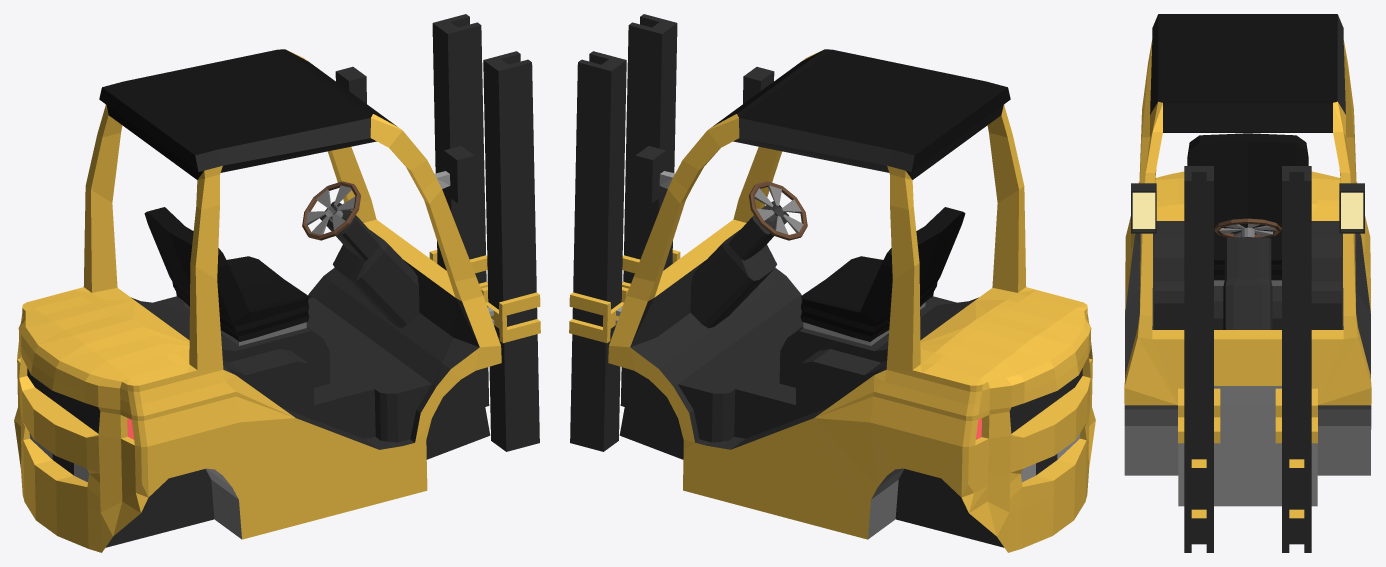
The model's file is chassis.glb.
3 renders of one model, left to right at view 1: azimuth 30°, elevation 25°; view 2: azimuth 150°, elevation 25°; view 3: azimuth 270°, elevation 25°, orthographic. The views are drawn at different scales.
Parts seen in each view (by area): view 1: Cylinder.001; view 2: Cylinder.001; view 3: Cylinder.001.
Boxes of the visible parts, x1=… form: Cylinder.001: x1=14, y1=14, x2=540, y2=552; Cylinder.001: x1=569, y1=14, x2=1095, y2=552; Cylinder.001: x1=1124, y1=14, x2=1371, y2=552.
Size of the model in its own units: 8.54 by 6.77 by 4.08.
